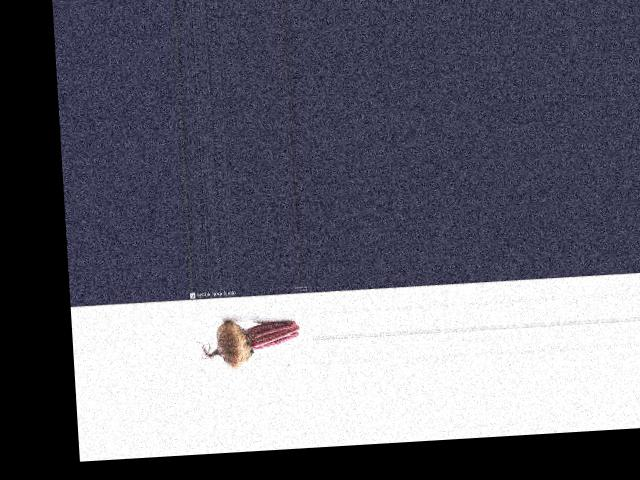beet: (194, 317, 301, 370)
